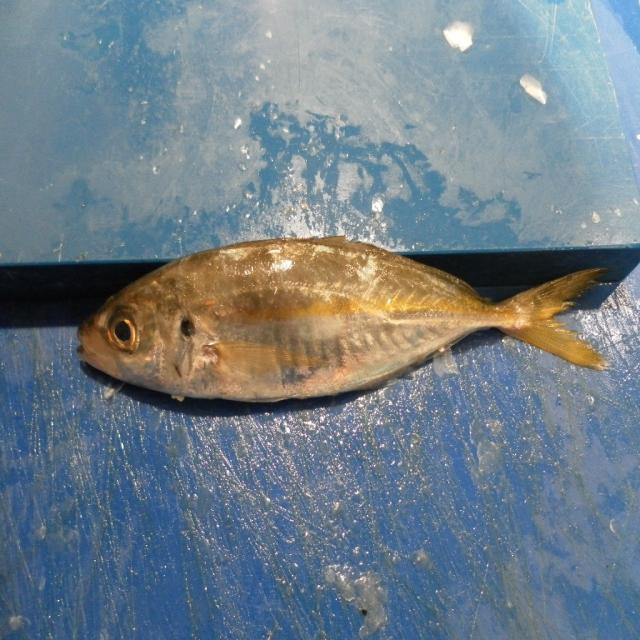Hourse-Mackerel-istavrit-: (77, 238, 616, 407)
